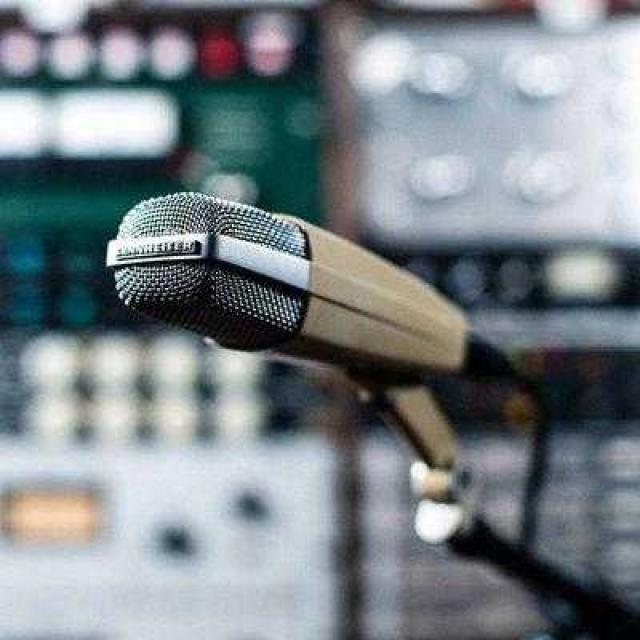microphone: (96, 182, 462, 404)
